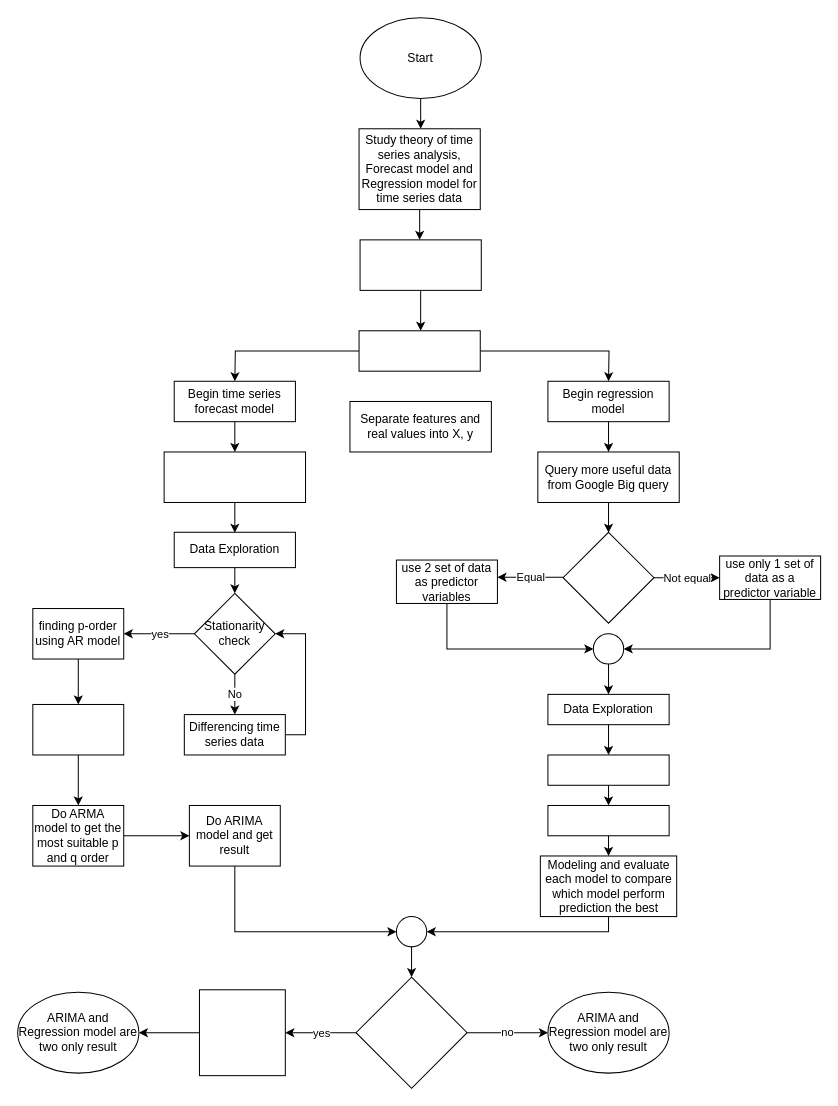
Image size: 838x1106. Some labels were removed from this diagram. Here are the shapes that lost their labels. From the top down, the centre of each, then its label:
point 420,264: Query data from Google Big query and store in dataframe
point 419,350: Split train and test data by date time
point 234,476: Filter all data out using only date and daily_confirmed_cases
point 608,577: Check if both dataset time is equally to each other
point 78,729: finding q-order using MA model
point 608,769: Feature Engineering
point 608,820: Data Preparation
point 241,1032: Combine ARIMA and regression model using et in ARIMA
point 411,1032: See if the model can perform Dynamic Regression
